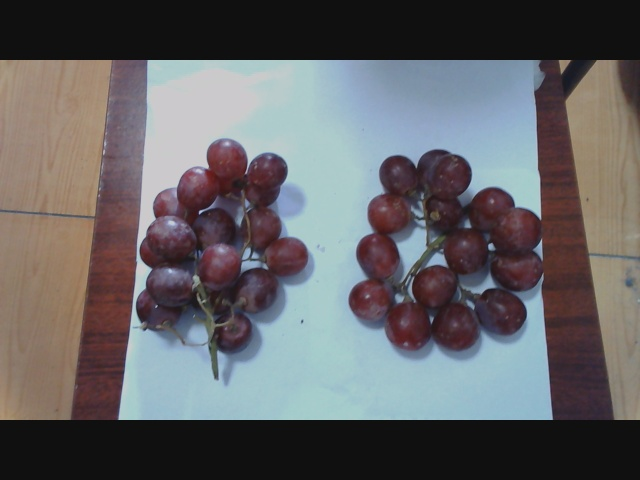grape: (349, 142, 541, 358), (135, 142, 303, 365)
